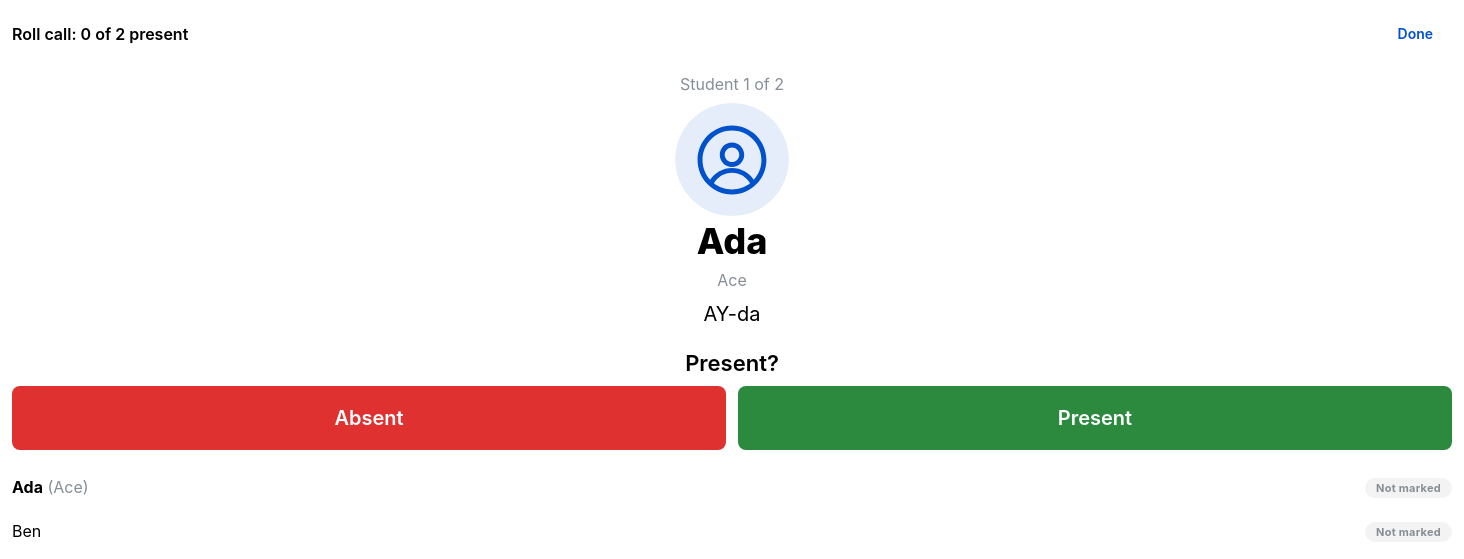
Test case: steps through the roster, marking each student, and finishes
Check: the text "Student 1 of 2" is shown, box [680,72,784,97]
Check: the text "Ace" is shown, box [717,268,747,293]
Click the button "Present": click(1095, 418) [738,386,1452,450]
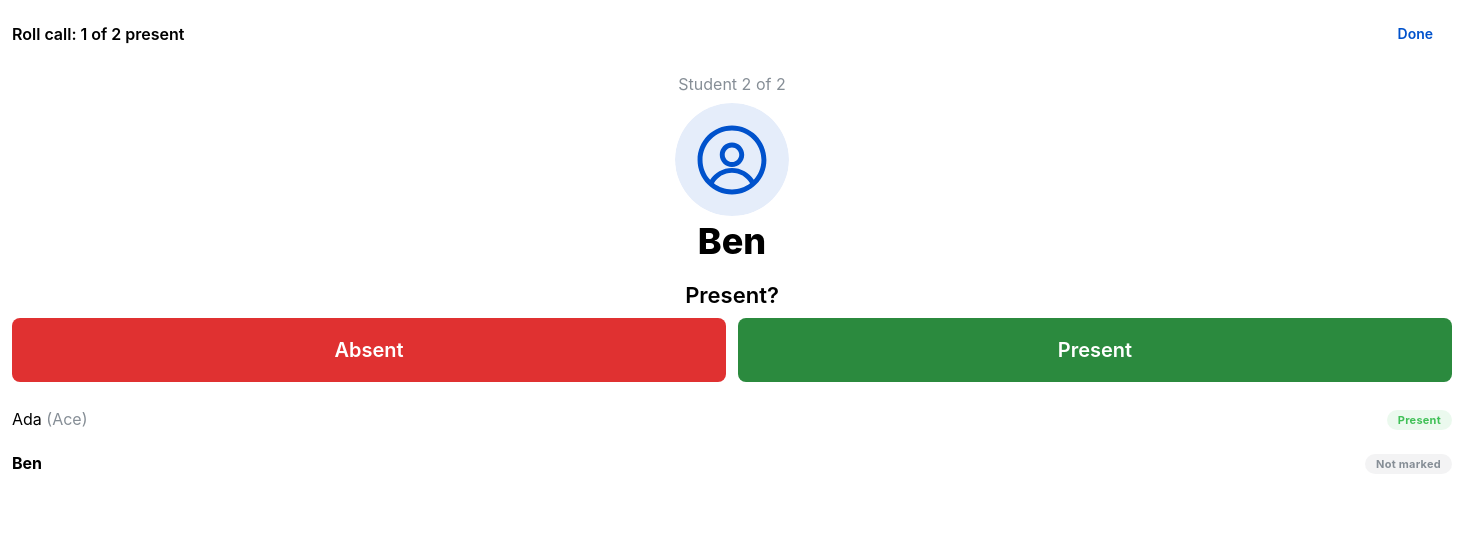
Check: the text "Student 2 of 2" is shown, box [678,72,786,97]
Click the button "Absent": click(369, 350) [12,318,726,382]
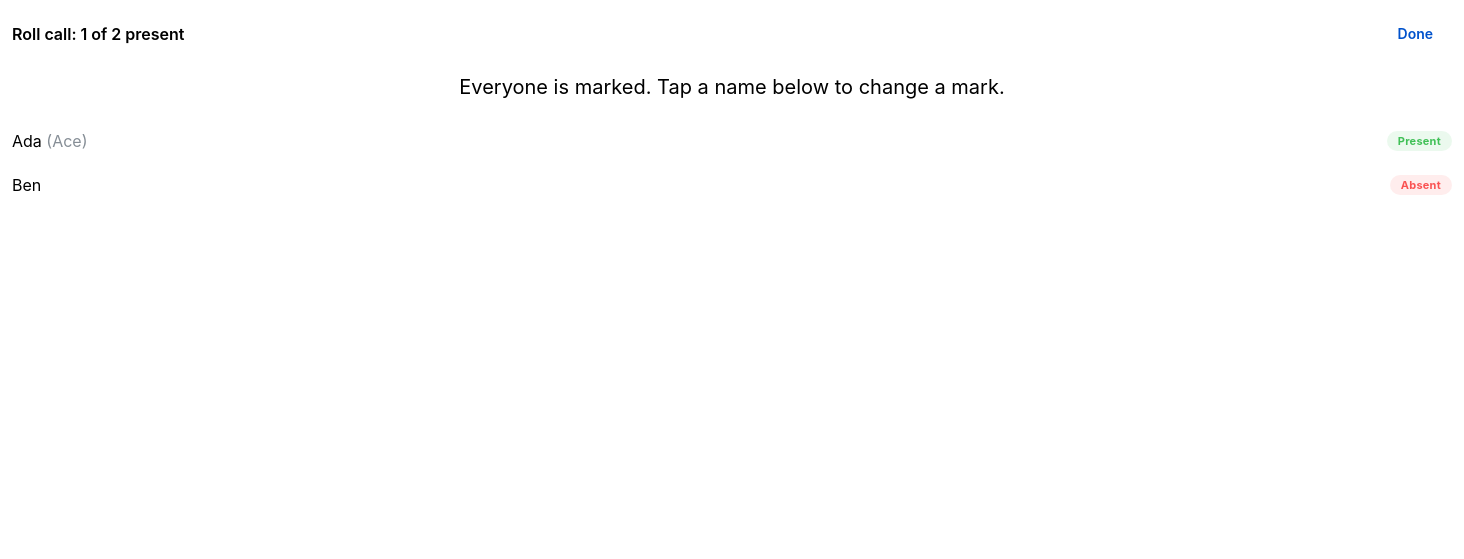
Check: the text "Roll call: 1 of 2 present" is shown, box [12,22,184,46]
Check: the text "Everyone is marked. Tap a name below to change a mark." is shown, box [459,75,1005,99]
Check: the text "Absent" is shown, box [1401,176,1441,194]
